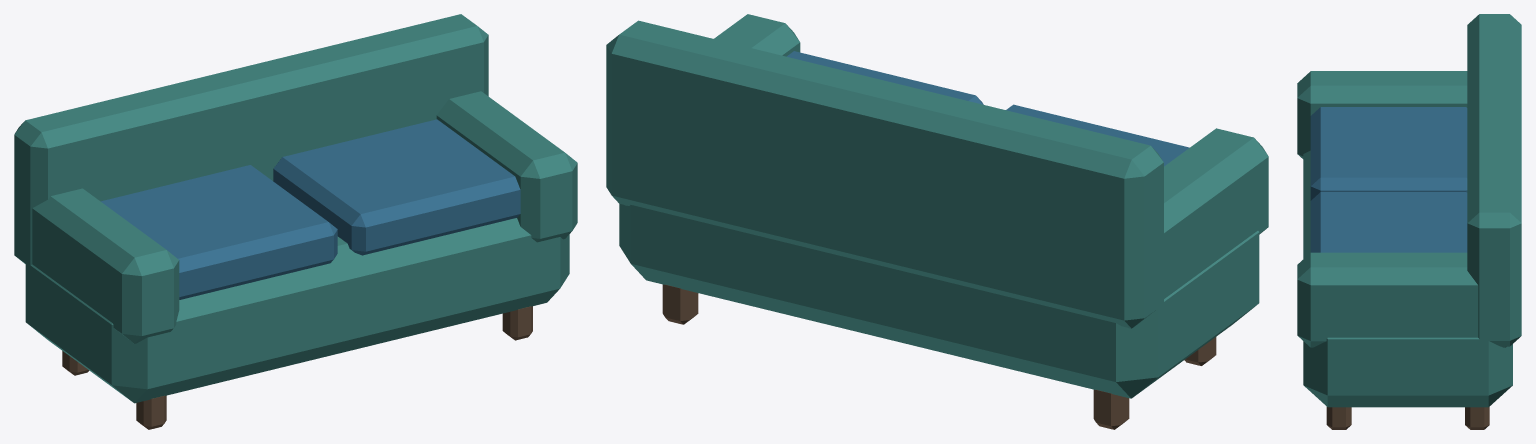
File: objects-sofa.lod0.glb
The picture shows the model from 3 angles, left to right: view 1: azimuth 30°, elevation 25°; view 2: azimuth 150°, elevation 25°; view 3: azimuth 270°, elevation 25°; orthographic projection. The views are drawn at different scales.
Visible parts, largest first — view 1: objects-sofa__body; view 2: objects-sofa__body; view 3: objects-sofa__body.
Boxes of the visible parts, x1,y1,x2,y2 form: objects-sofa__body: [14, 14, 577, 429]; objects-sofa__body: [606, 14, 1268, 429]; objects-sofa__body: [1297, 14, 1521, 429].
Bounding box in the file's own units: 2 × 1.03 × 0.91.
